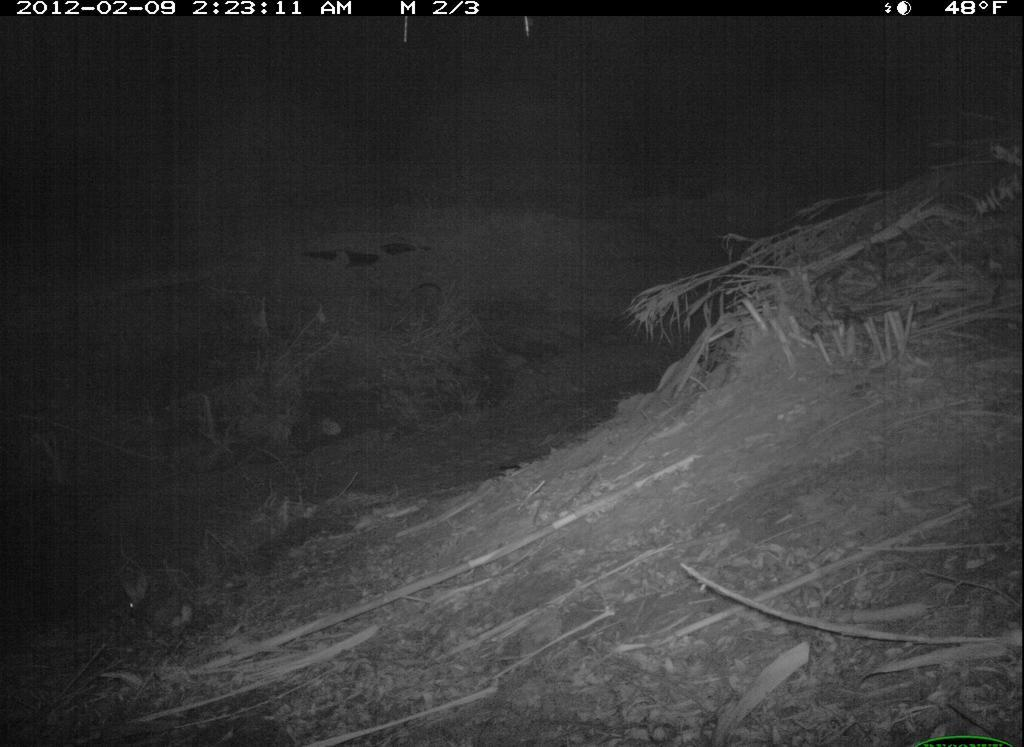rabbit: (114, 566, 200, 649)
